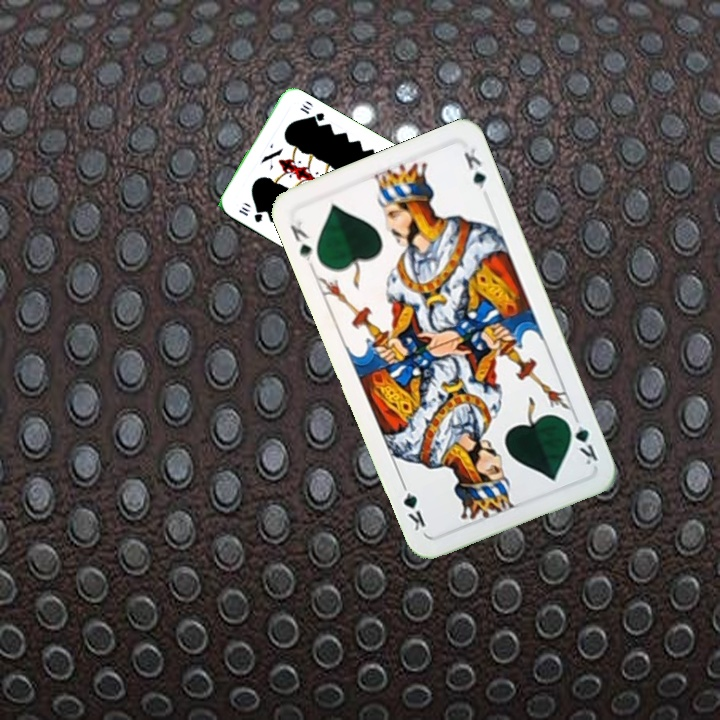G10: (234, 202, 265, 225)
GK: (562, 415, 601, 468), (286, 214, 317, 270)
